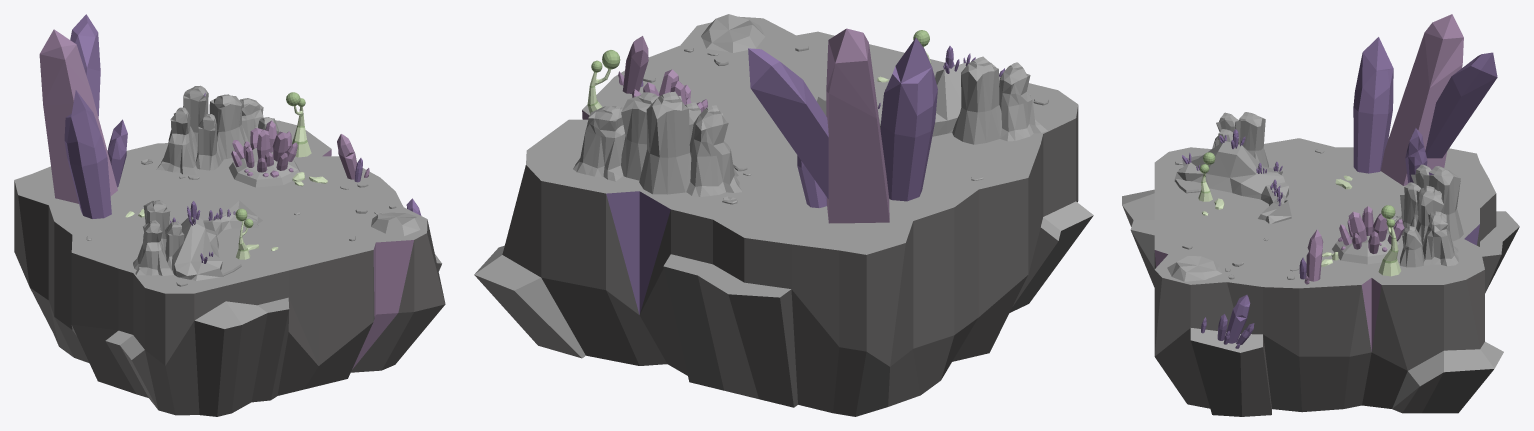
File: Island_4.fbx
3 renders of one model, left to right at view 1: azimuth 30°, elevation 25°; view 2: azimuth 150°, elevation 25°; view 3: azimuth 270°, elevation 25°, orthographic. The views are drawn at different scales.
Visible parts, largest first — view 1: Isl4_Base, Isl4_Crystal_1, Isl4_Rock_1, Isl4_Rock_2, Isl4_Crystal_2, Isl4_Crystal_6, Isl4_Stone_5, Isl4_Crystal_3, Isl4_Crystal_5, Isl4_Tree_2, Isl4_Tree_1; view 2: Isl4_Base, Isl4_Crystal_1, Isl4_Rock_1, Isl4_Rock_2, Isl4_Crystal_2, Isl4_Stone_5, Isl4_Crystal_5, Isl4_Crystal_6, Isl4_Tree_2, Isl4_Crystal_3; view 3: Isl4_Base, Isl4_Crystal_1, Isl4_Rock_2, Isl4_Rock_1, Isl4_Crystal_2, Isl4_Crystal_6, Isl4_Crystal_4, Isl4_Stone_5, Isl4_Crystal_5, Isl4_Tree_2, Isl4_Crystal_3, Isl4_Tree_1.
Part boxes in pixels (bbox=[...]): Isl4_Base: bbox=[14, 120, 445, 416]; Isl4_Crystal_1: bbox=[39, 14, 117, 203]; Isl4_Rock_1: bbox=[156, 85, 278, 174]; Isl4_Rock_2: bbox=[133, 200, 262, 280]; Isl4_Crystal_2: bbox=[64, 90, 111, 218]; Isl4_Crystal_6: bbox=[229, 120, 299, 187]; Isl4_Stone_5: bbox=[371, 212, 423, 236]; Isl4_Crystal_3: bbox=[107, 119, 127, 187]; Isl4_Crystal_5: bbox=[337, 134, 369, 182]; Isl4_Tree_2: bbox=[286, 92, 311, 157]; Isl4_Tree_1: bbox=[235, 208, 253, 259]; Isl4_Base: bbox=[474, 16, 1093, 416]; Isl4_Crystal_1: bbox=[748, 28, 889, 223]; Isl4_Rock_1: bbox=[573, 91, 742, 196]; Isl4_Rock_2: bbox=[817, 46, 1047, 144]; Isl4_Crystal_2: bbox=[880, 37, 937, 201]; Isl4_Stone_5: bbox=[701, 14, 765, 52]; Isl4_Crystal_5: bbox=[618, 36, 648, 93]; Isl4_Crystal_6: bbox=[632, 69, 707, 112]; Isl4_Tree_2: bbox=[587, 50, 620, 113]; Isl4_Crystal_3: bbox=[797, 155, 826, 207]; Isl4_Base: bbox=[1122, 138, 1519, 416]; Isl4_Crystal_1: bbox=[1380, 14, 1497, 185]; Isl4_Rock_2: bbox=[1174, 112, 1291, 223]; Isl4_Rock_1: bbox=[1396, 164, 1463, 267]; Isl4_Crystal_2: bbox=[1353, 37, 1393, 173]; Isl4_Crystal_6: bbox=[1332, 206, 1404, 264]; Isl4_Crystal_4: bbox=[1201, 294, 1254, 348]; Isl4_Stone_5: bbox=[1167, 256, 1222, 281]; Isl4_Crystal_5: bbox=[1299, 229, 1323, 284]; Isl4_Tree_2: bbox=[1378, 205, 1401, 276]; Isl4_Crystal_3: bbox=[1405, 128, 1427, 182]; Isl4_Tree_1: bbox=[1198, 152, 1215, 201].
Bounding box in the file's own units: 2333 × 2445 × 1958.
